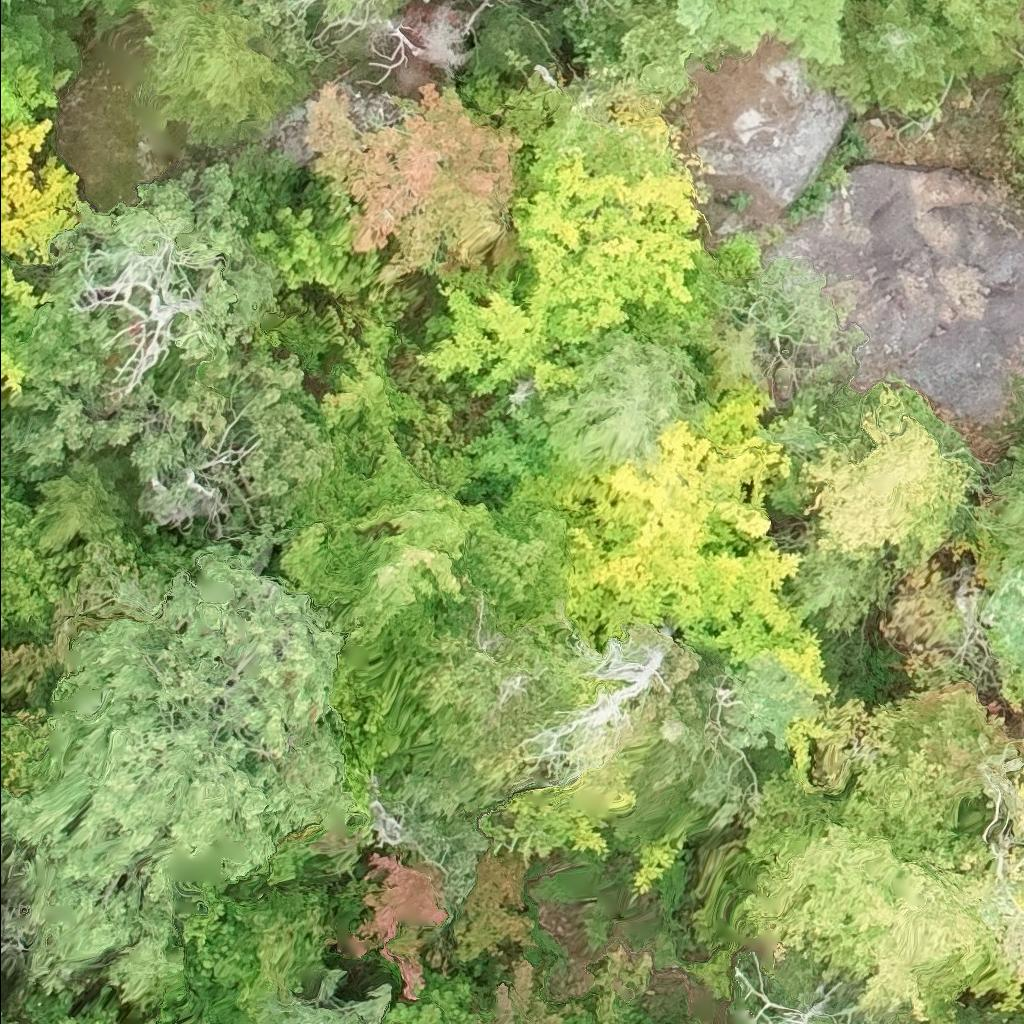crown: (543, 385, 833, 765), (416, 131, 708, 398), (310, 77, 540, 286), (797, 382, 977, 567), (131, 0, 325, 147), (538, 322, 707, 475), (816, 0, 971, 116), (673, 0, 854, 67), (918, 0, 1023, 75), (977, 442, 1023, 571), (43, 0, 133, 17), (0, 0, 45, 19), (616, 0, 644, 8)
